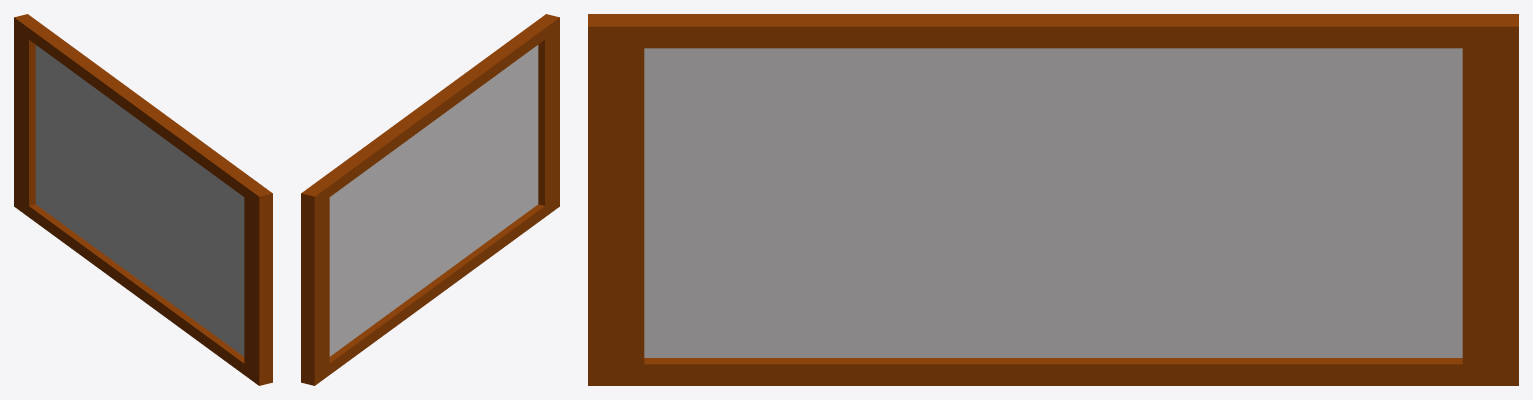
The model's file is frame.glb.
3 views of the same model, side by side, from view 1: azimuth 30°, elevation 25°; view 2: azimuth 150°, elevation 25°; view 3: azimuth 270°, elevation 25° (orthographic). The views are drawn at different scales.
Parts seen in each view (by area): view 1: Plane, Cube; view 2: Plane, Cube; view 3: Plane, Cube.
Boxes of the visible parts, x1,y1,x2,y2 form: Plane: (35,45,244,356); Cube: (14,14,272,385); Plane: (329,45,538,356); Cube: (301,14,559,385); Plane: (644,48,1462,357); Cube: (588,14,1518,385).
Bounding box in the file's own units: 0.1519 × 2 × 4.7.
